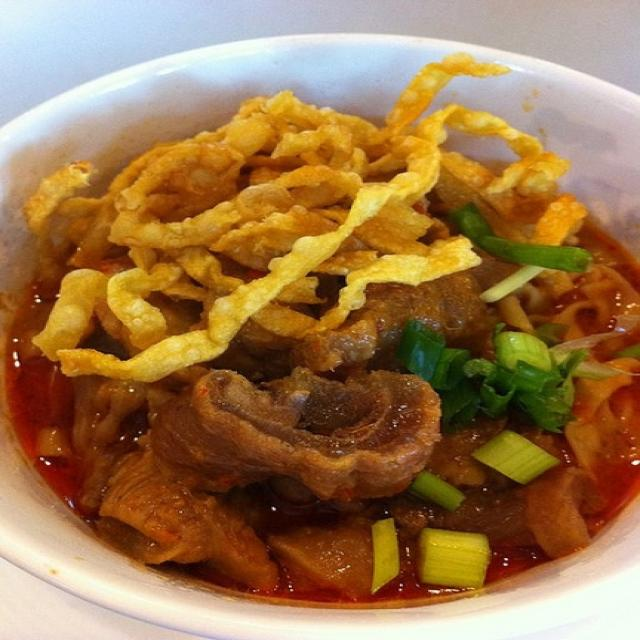面条主食: (37, 55, 615, 626)
